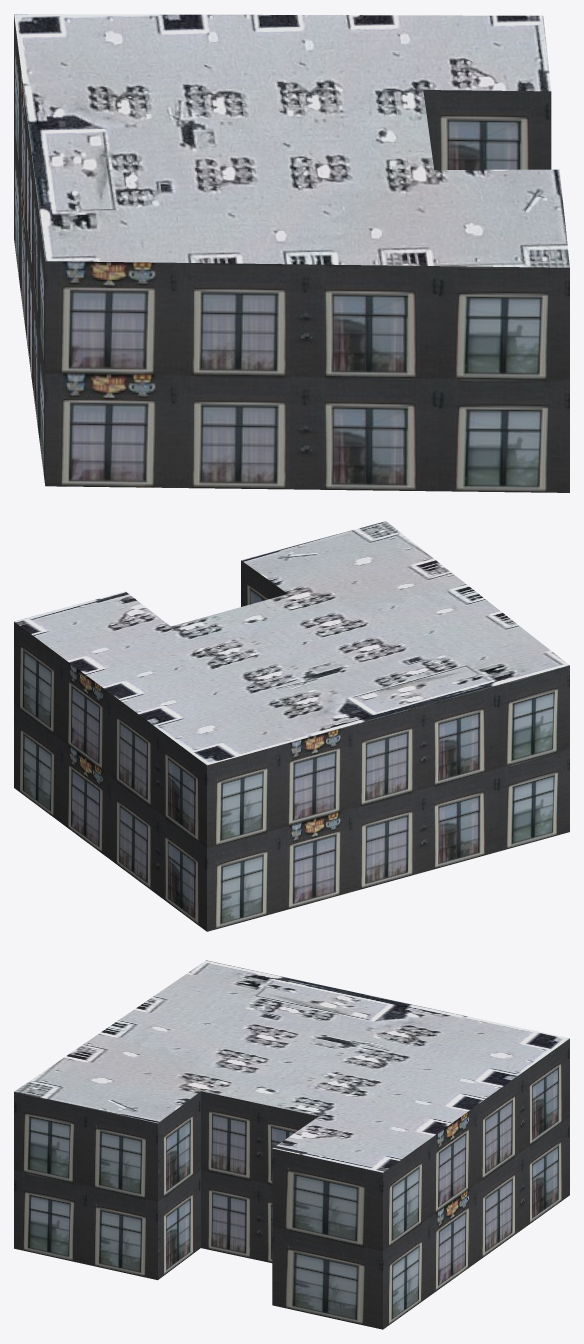
File: ResTex__699.fbx
3 renders of one model, top to bottom at view 1: azimuth 30°, elevation 25°; view 2: azimuth 150°, elevation 25°; view 3: azimuth 270°, elevation 25°, orthographic. The views are drawn at different scales.
Visible parts, largest first — view 1: CityEngineMaterial_22_m, CityEngineMaterial_8_m; view 2: CityEngineMaterial_22_m, CityEngineMaterial_8_m; view 3: CityEngineMaterial_22_m, CityEngineMaterial_8_m.
Boxes of the visible parts, <box> form: CityEngineMaterial_22_m: <box>14,15,569,492</box>; CityEngineMaterial_8_m: <box>14,14,569,267</box>; CityEngineMaterial_22_m: <box>14,560,569,931</box>; CityEngineMaterial_8_m: <box>14,521,569,765</box>; CityEngineMaterial_22_m: <box>14,1038,569,1329</box>; CityEngineMaterial_8_m: <box>14,960,569,1172</box>.
Size of the model in its own units: 17.43 by 6 by 19.27.
2 materials, 2 textured.
